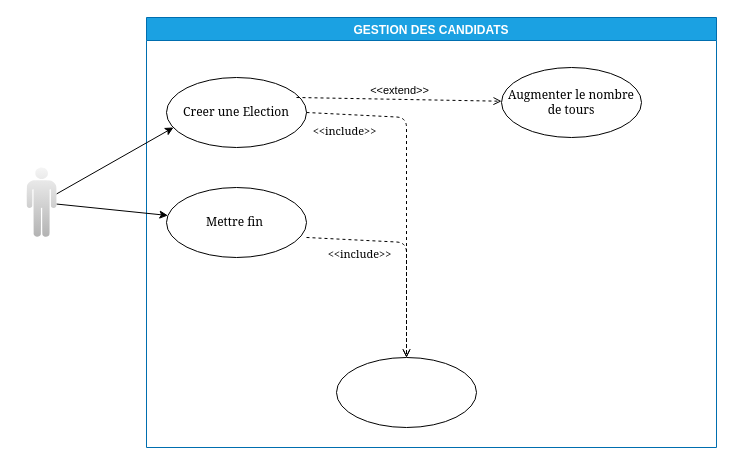
The diagram is 734 pixels wide and 465 high, and some of its shapes have lost their labels. The centre of each missing label's shape, as x and y in pixels:
Connexion: (406,392)
Gerant 2: (41,202)
